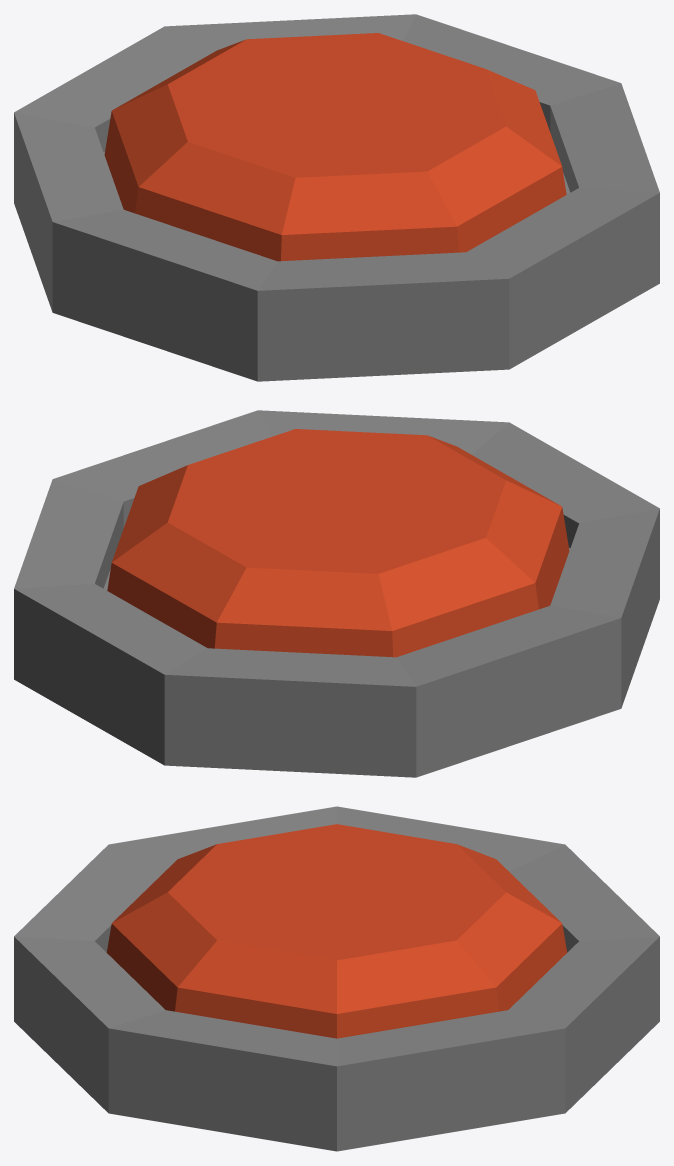
The model's file is bouton.fbx.
3 views of the same model, one above another, from view 1: azimuth 30°, elevation 25°; view 2: azimuth 150°, elevation 25°; view 3: azimuth 270°, elevation 25° (orthographic). The views are drawn at different scales.
Visible parts, largest first — view 1: Cylinder.001, Cylinder; view 2: Cylinder.001, Cylinder; view 3: Cylinder.001, Cylinder.
Part boxes in pixels (<box>): Cylinder.001: <box>14,14,659,381</box>; Cylinder: <box>104,33,566,261</box>; Cylinder.001: <box>14,410,659,777</box>; Cylinder: <box>107,429,569,657</box>; Cylinder.001: <box>14,806,659,1151</box>; Cylinder: <box>106,824,567,1038</box>.
Bounding box in the file's own units: 84.76 × 19.65 × 88.99.
